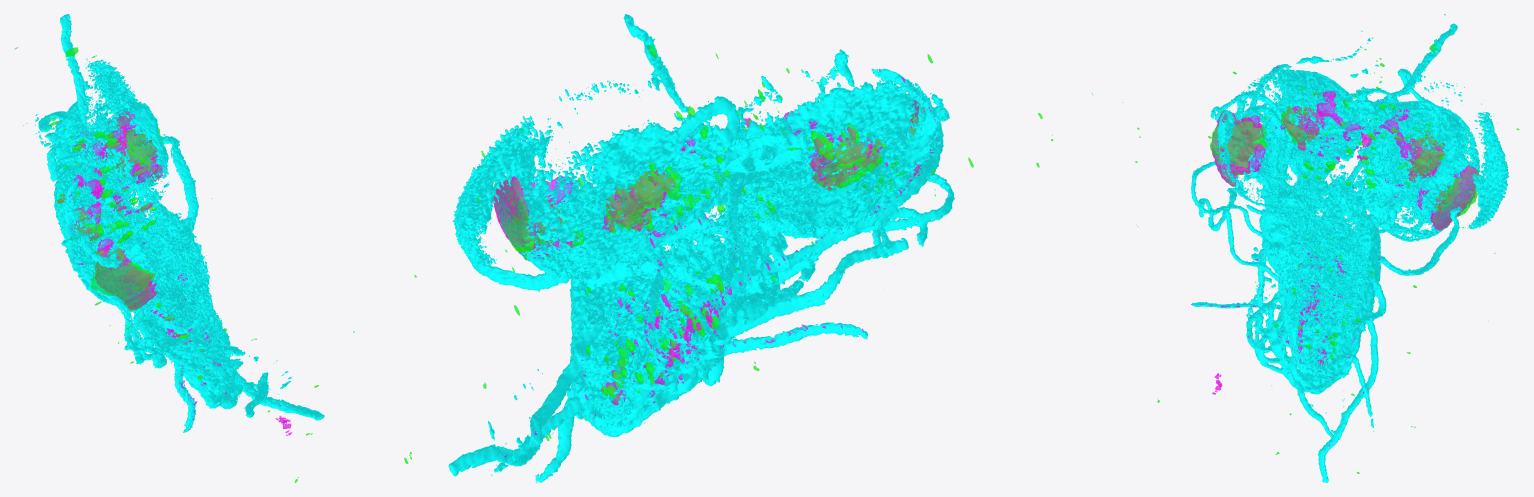
File: drosophila_larve_brain__axotactin_enhancer_axog.glb
The picture shows the model from 3 angles, left to right: view 1: azimuth 30°, elevation 25°; view 2: azimuth 150°, elevation 25°; view 3: azimuth 270°, elevation 25°; orthographic projection. The views are drawn at different scales.
Parts seen in each view (by area): view 1: Object_8, Object_7, Object_6, Object_4, Object_5, Object_3, Object_2, Object_9; view 2: Object_6, Object_5, Object_4, Object_7, Object_9, Object_2, Object_3, Object_8; view 3: Object_4, Object_7, Object_5, Object_6, Object_8, Object_3, Object_9, Object_2.
Part boxes in pixels (x1,y1,x2,y2): Object_8: (60,14,324,427); Object_7: (49,64,301,413); Object_6: (40,91,280,432); Object_4: (54,102,244,400); Object_5: (38,95,256,408); Object_3: (58,111,292,435); Object_2: (14,47,318,482); Object_9: (35,92,270,431); Object_6: (456,118,943,482); Object_5: (499,86,946,453); Object_4: (566,68,916,435); Object_7: (452,49,954,464); Object_9: (466,69,954,478); Object_2: (353,45,1093,463); Object_3: (493,70,938,457); Object_8: (448,14,950,476); Object_4: (1232,64,1446,391); Object_7: (1191,55,1509,462); Object_5: (1213,68,1468,430); Object_6: (1192,86,1479,465); Object_8: (1201,23,1506,482); Object_3: (1191,64,1478,448); Object_9: (1192,37,1507,443); Object_2: (1122,14,1519,473).
Size of the model in its own units: 0.6281 by 0.7191 by 0.6897.
